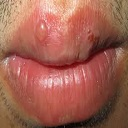Cold Sore: (83, 26, 106, 48), (32, 17, 50, 42)
